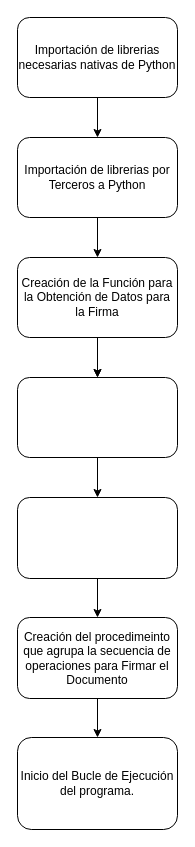
Some shapes in this 195 by 847 pixel diagram are drawn without their labels. The shapes that lost their labels are listed below. From the top down, each one's centre as x and y in pixels, then its label:
point 97,417: Creación del Procedimeinto para Renderizar el documento a firmar
point 97,537: Creación del Procedimeinto para Convertir el archivo Word Firmado a PDF
